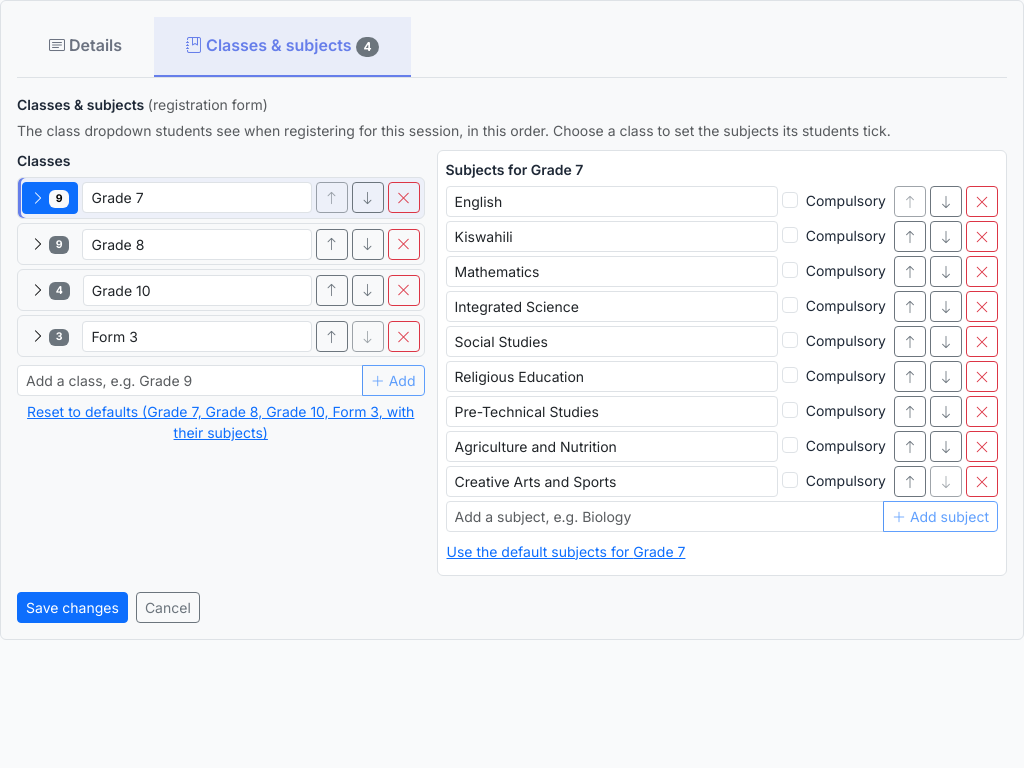
two panes: classes, and the selected class's subjects › selection follows a rename
The width and height of the screenshot is (1024, 768).
Click the button "4". click: (50, 290)
box: top-left (22, 274), bottom-right (79, 306)
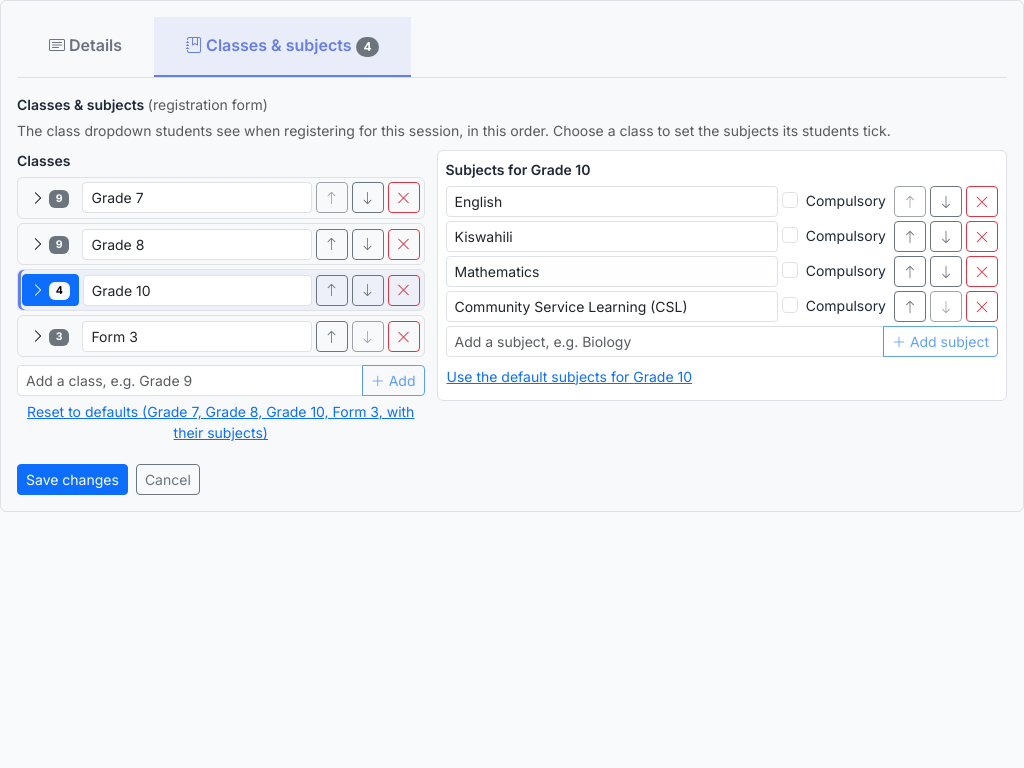
Replace the text in the field named "Class 3" with "Grade Ten". click: (197, 290)
box: top-left (83, 275), bottom-right (312, 306)
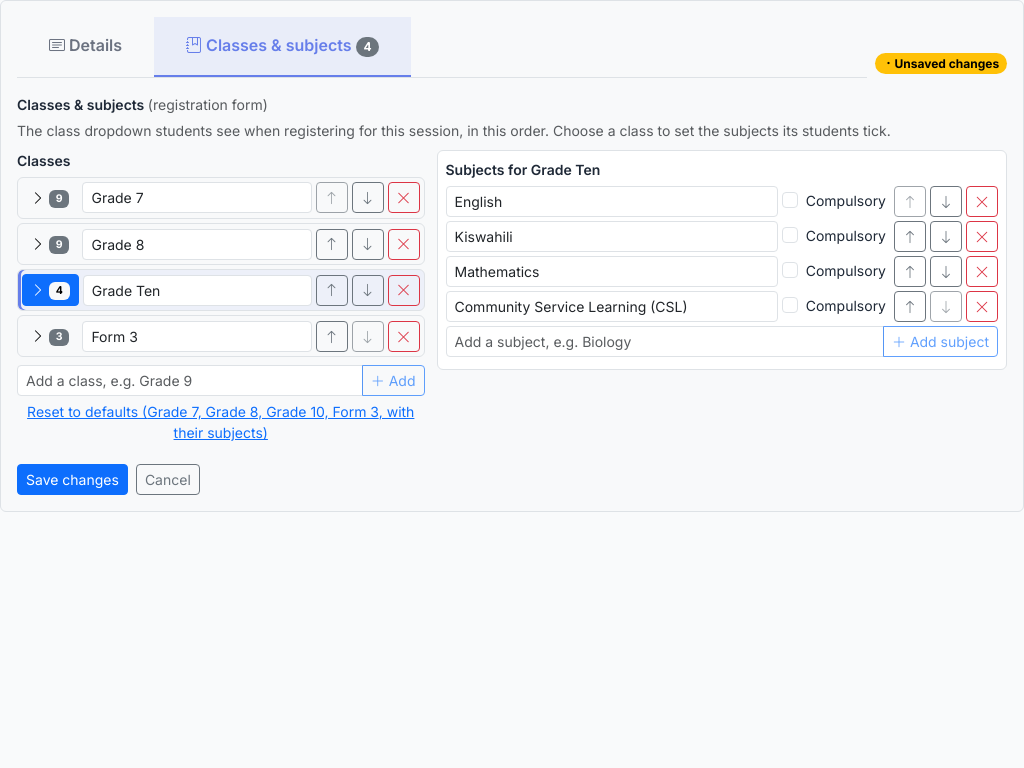
Now the text with test id "subjects-heading" reads "Subjects for Grade Ten", box top-left (446, 159), bottom-right (600, 182)
